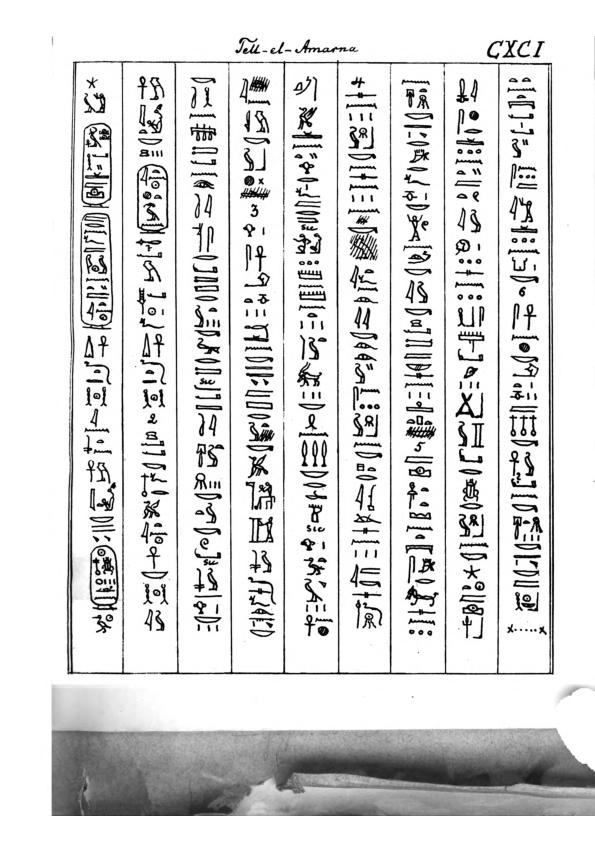circle: (79, 212, 115, 331), (80, 122, 114, 212), (135, 163, 170, 236), (88, 543, 120, 612)
